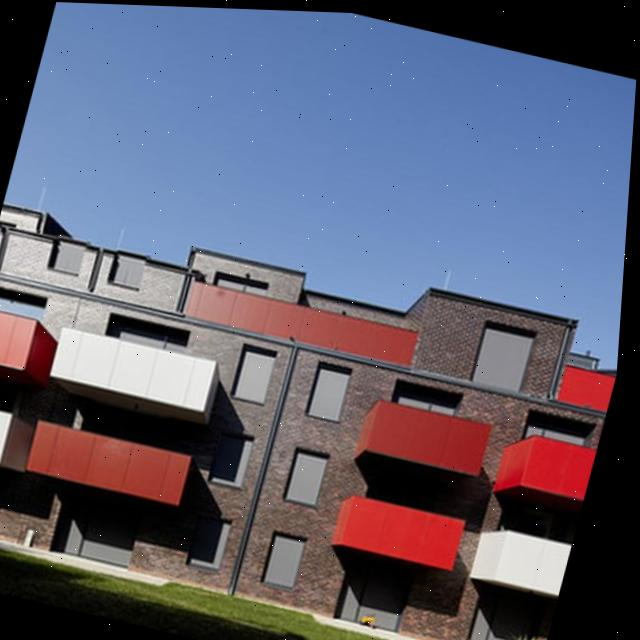building: (0, 183, 628, 640)
